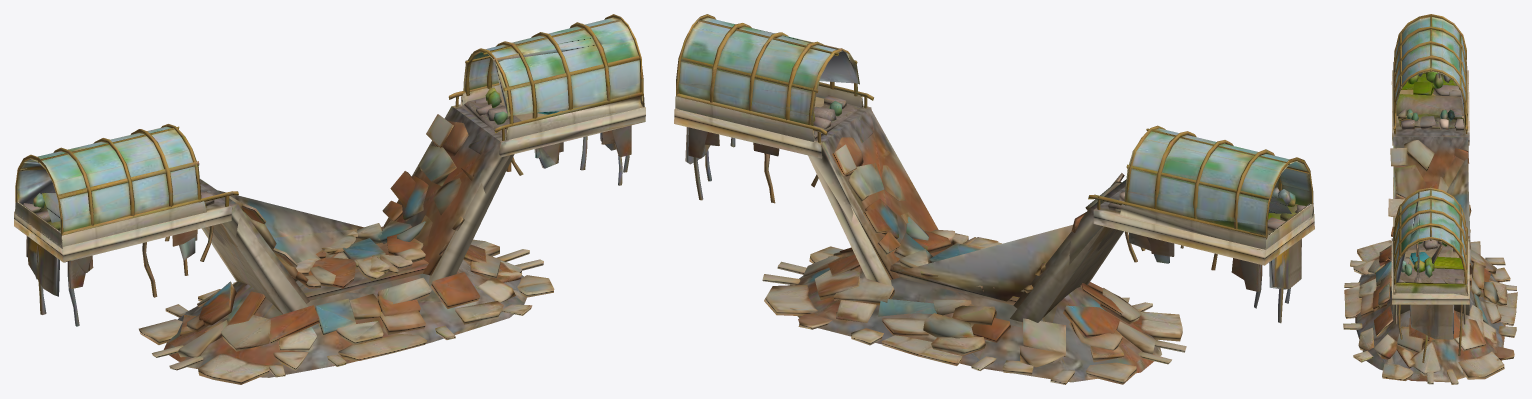
The model's file is skybridge-collapsed.glb.
The picture shows the model from 3 angles, left to right: view 1: azimuth 30°, elevation 25°; view 2: azimuth 150°, elevation 25°; view 3: azimuth 270°, elevation 25°; orthographic projection. The views are drawn at different scales.
Parts seen in each view (by area): view 1: skybridge-collapsed; view 2: skybridge-collapsed; view 3: skybridge-collapsed.
Part boxes in pixels (<box>): skybridge-collapsed: <box>14,14,645,384</box>; skybridge-collapsed: <box>674,14,1314,384</box>; skybridge-collapsed: <box>1343,14,1517,384</box>.
Bounding box in the file's own units: 12 × 4.69 × 4.
1 material, 1 textured.
